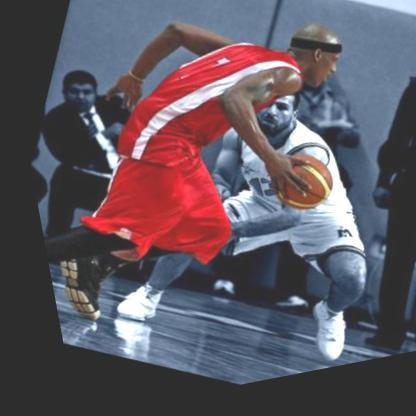basketball: (247, 147, 337, 236)
